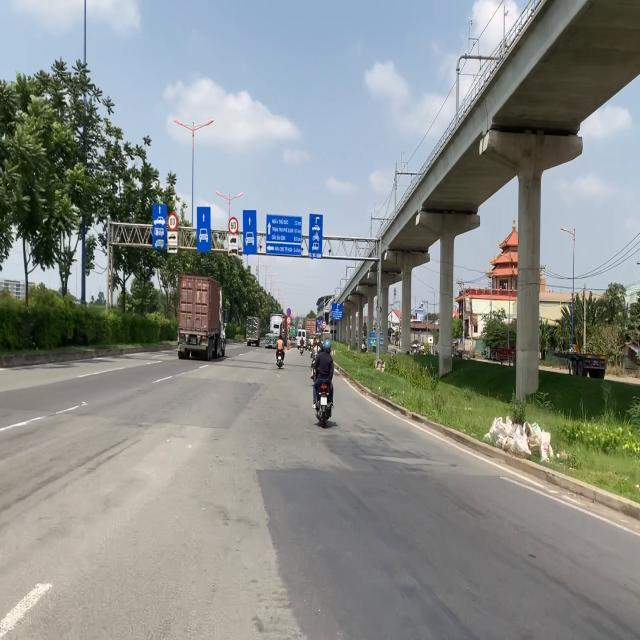Cam dung va do: (287, 308, 291, 316)
Toc do toi da: (167, 213, 178, 231), (228, 216, 238, 235)
